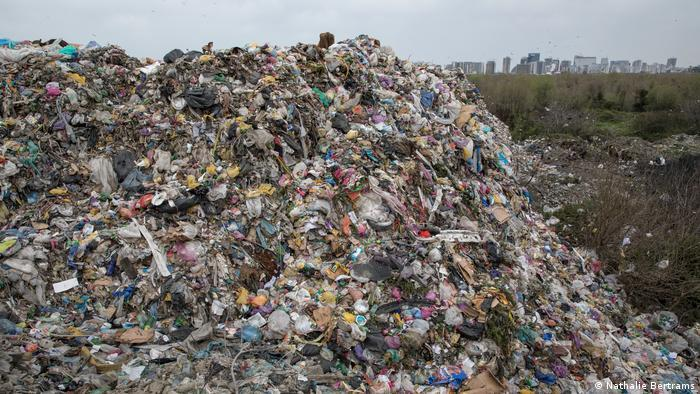garbage: (0, 34, 448, 394), (422, 80, 700, 394)
